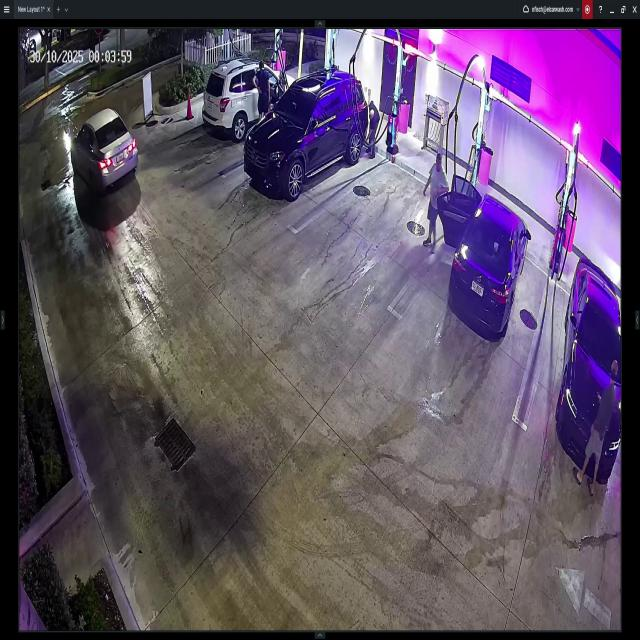Car: (246, 70, 369, 195), (556, 261, 626, 478), (436, 172, 529, 334), (198, 58, 296, 138), (72, 106, 138, 190)
